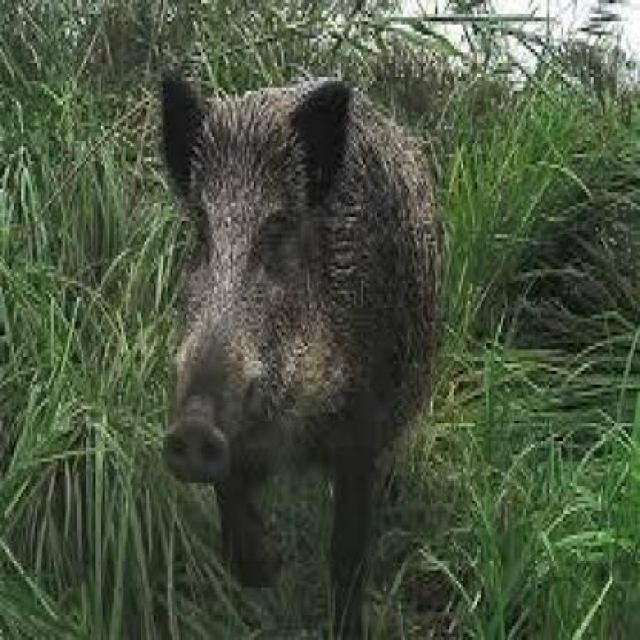wildboar: (150, 63, 452, 628)
